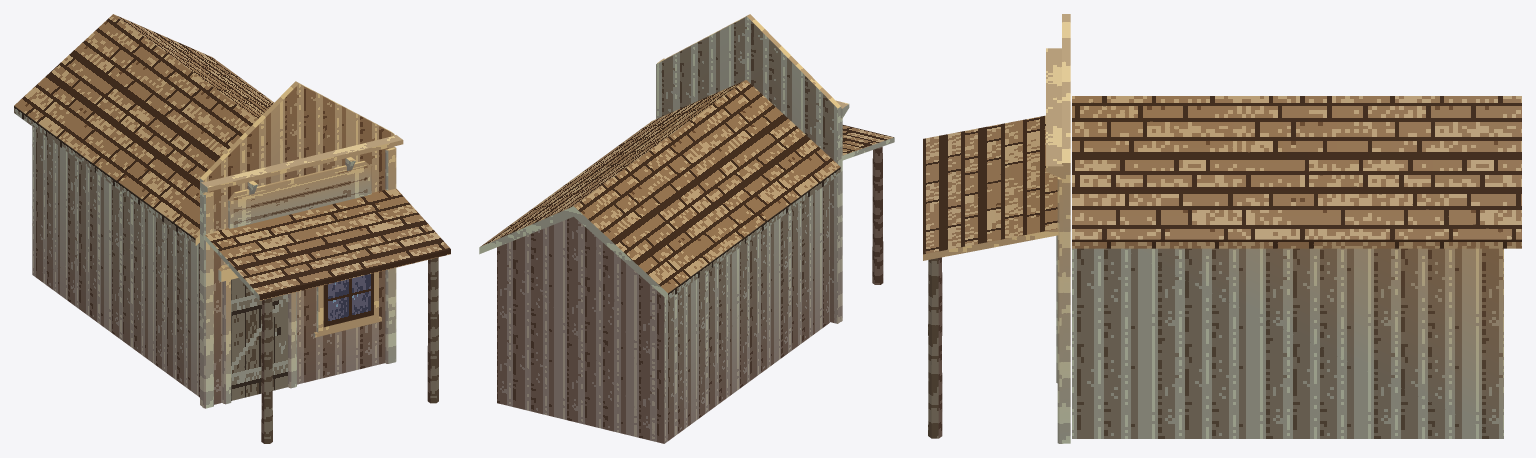
Rendered from wtown.facade__d_gabled.glb.
3 views of the same model, side by side, from view 1: azimuth 30°, elevation 25°; view 2: azimuth 150°, elevation 25°; view 3: azimuth 270°, elevation 25° (orthographic). The views are drawn at different scales.
Parts seen in each view (by area): view 1: kit_roof, kit_body, kit_porch, kit_front, kit_card_panes, kit_trim, kit_windows; view 2: kit_body, kit_roof, kit_front, kit_porch, kit_trim; view 3: kit_body, kit_roof, kit_porch, kit_trim, kit_front.
Boxes of the visible parts, x1,y1,x2,y2 form: kit_roof: (14, 14, 274, 245); kit_body: (32, 126, 199, 397); kit_porch: (204, 188, 450, 443); kit_front: (200, 81, 394, 406); kit_card_panes: (231, 165, 373, 400); kit_trim: (200, 135, 403, 408); kit_windows: (313, 272, 381, 337); kit_body: (497, 182, 829, 443); kit_roof: (479, 80, 840, 299); kit_front: (656, 14, 841, 323); kit_porch: (842, 125, 894, 284); kit_trim: (657, 58, 849, 321); kit_body: (1072, 248, 1503, 438); kit_roof: (1072, 96, 1521, 248); kit_porch: (923, 115, 1058, 438); kit_trim: (1046, 48, 1063, 443); kit_front: (1062, 14, 1070, 443).
Size of the model in its own units: 3.94 by 5.7 by 8.32.
Materials: 7 (7 with a texture image).
